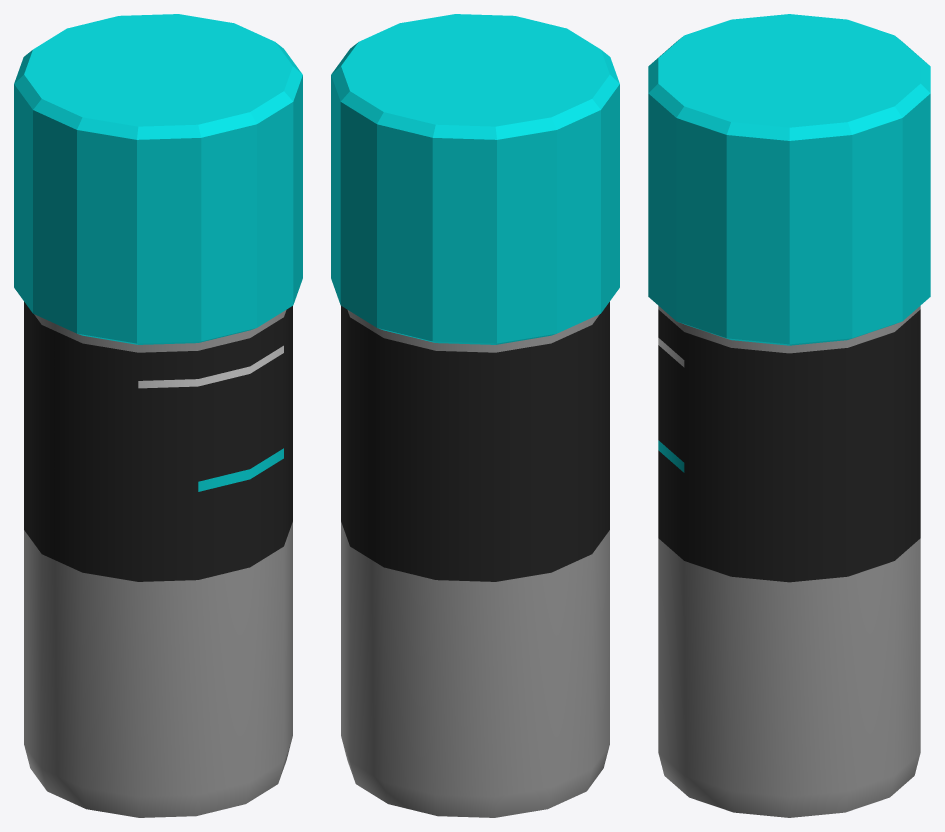
File: SprayPaint_Cyan.fbx
3 renders of one model, left to right at view 1: azimuth 30°, elevation 25°; view 2: azimuth 150°, elevation 25°; view 3: azimuth 270°, elevation 25°, orthographic.
Visible parts, largest first — view 1: pCylinder1; view 2: pCylinder1; view 3: pCylinder1.
Boxes of the visible parts, <box> form: pCylinder1: <box>14,14,302,817</box>; pCylinder1: <box>331,14,619,817</box>; pCylinder1: <box>648,14,930,817</box>.
Size of the model in its own units: 3.04 by 8.04 by 2.97.
